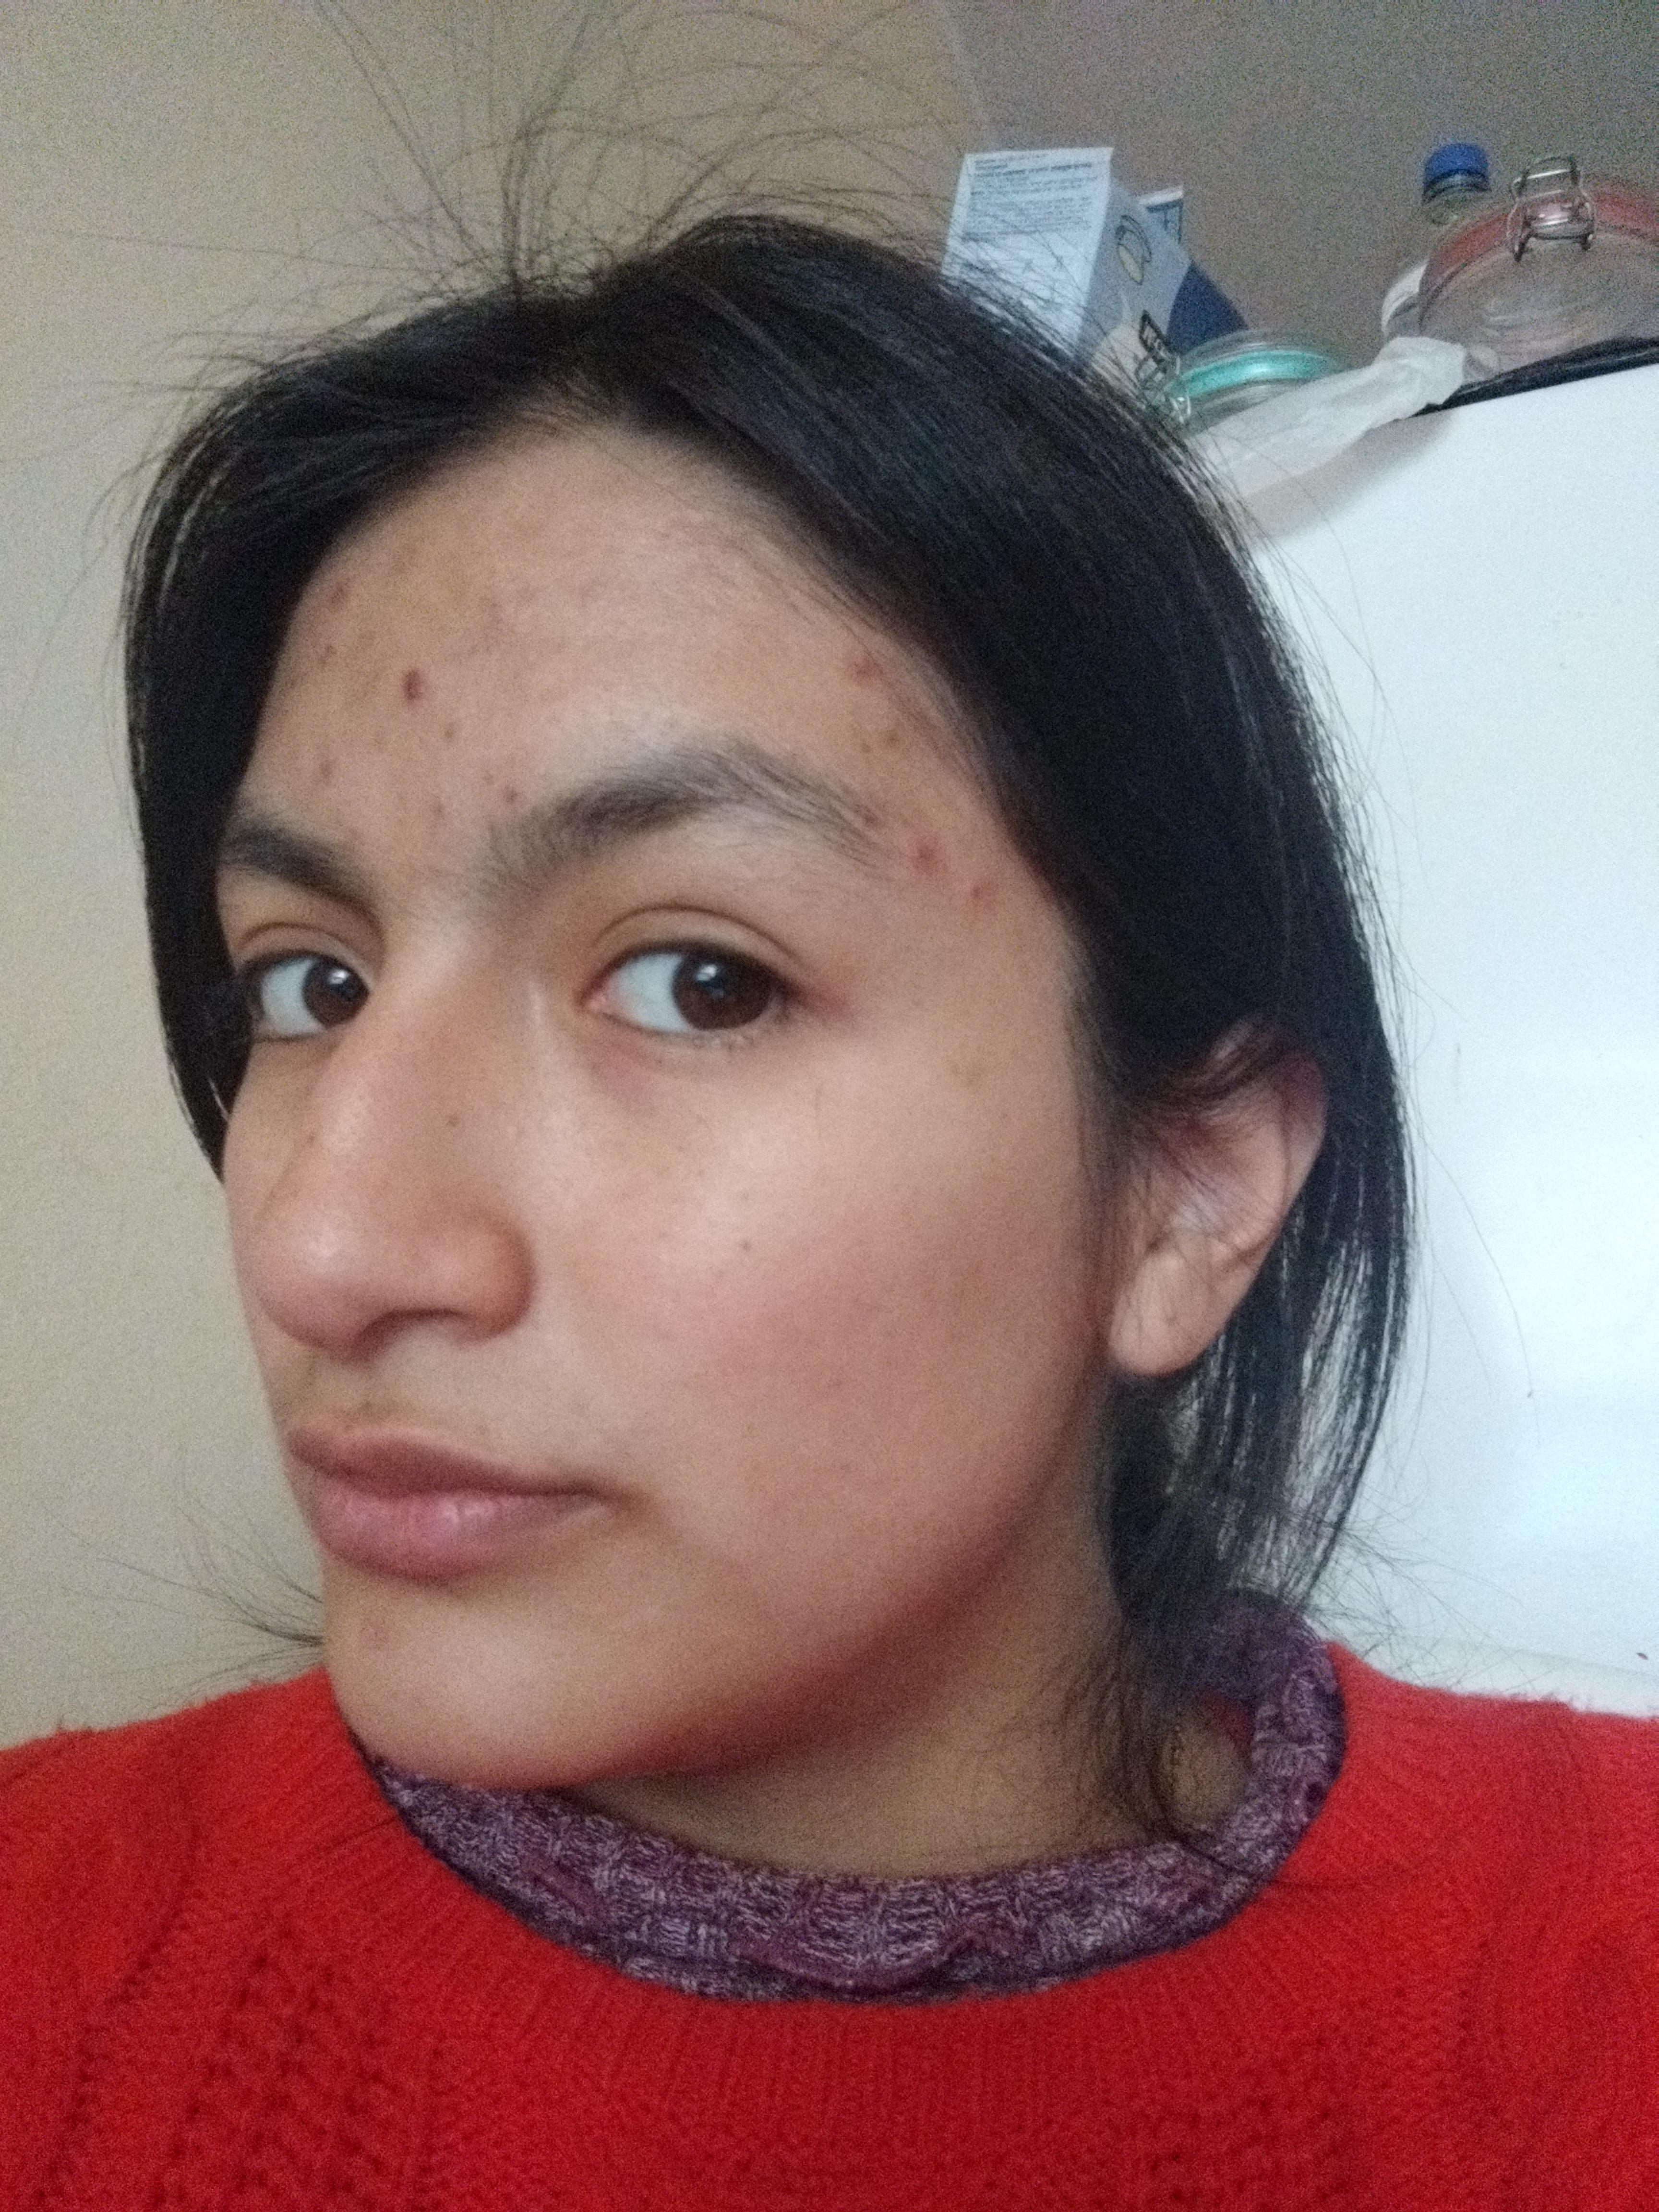Acne: (894, 812, 948, 864), (472, 763, 526, 806), (296, 758, 349, 801), (385, 667, 437, 707), (842, 719, 892, 754), (310, 643, 352, 685), (274, 671, 315, 712), (960, 878, 1004, 918), (422, 786, 457, 834), (385, 550, 427, 589), (838, 641, 878, 678), (566, 583, 610, 617), (472, 583, 507, 624), (429, 718, 471, 745), (321, 580, 355, 610)
